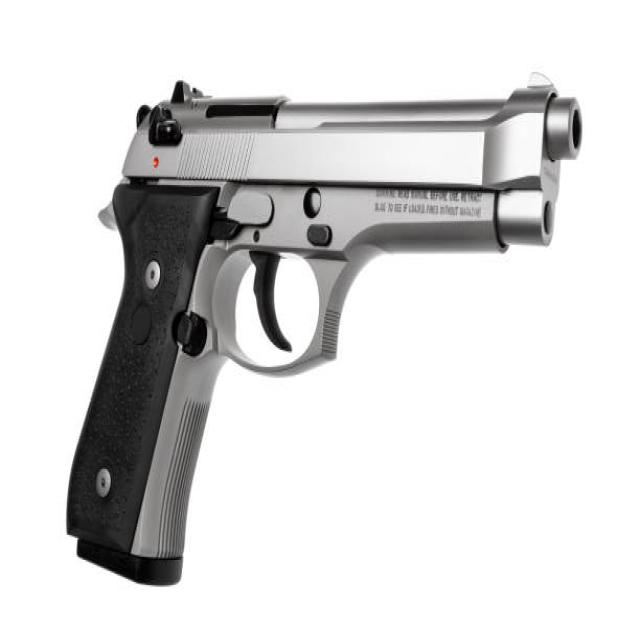pistol: (54, 72, 591, 598)
